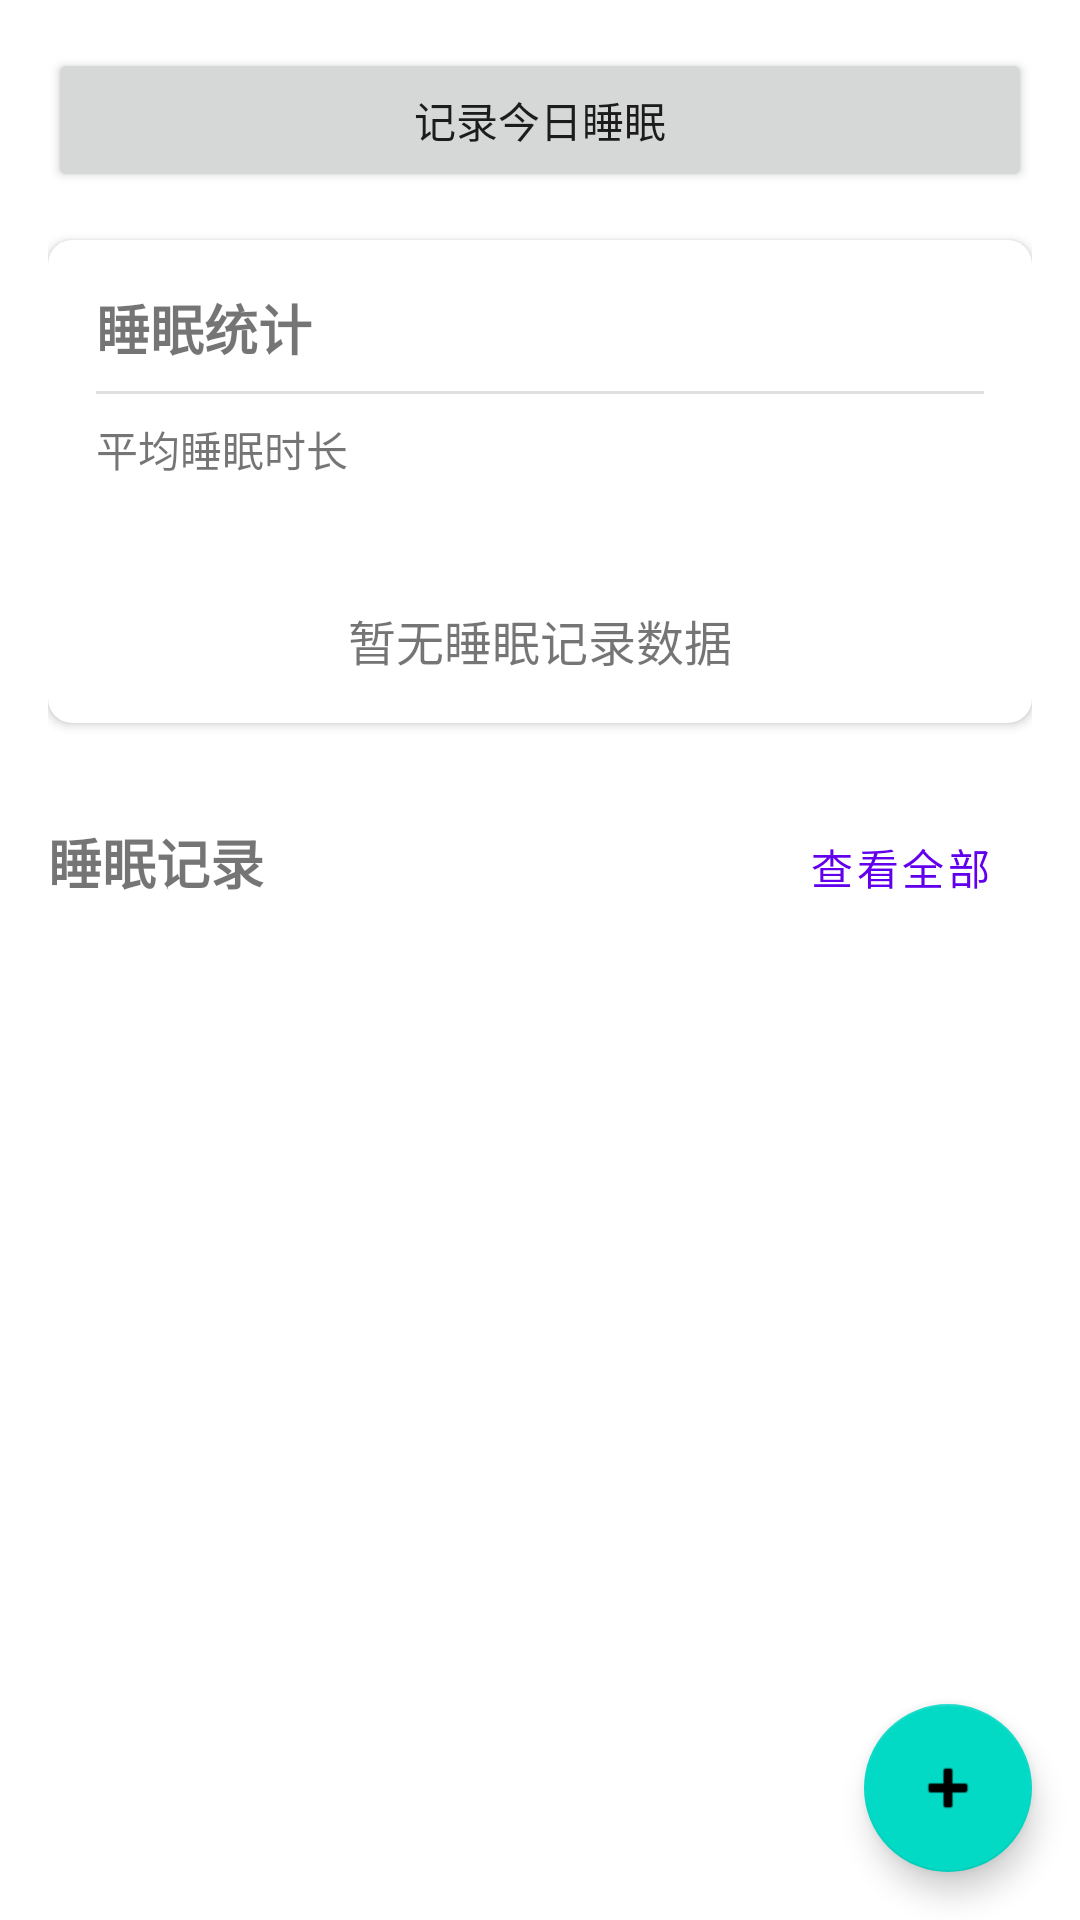

Locate icon controls on the screen. Image size 1080 x 1920, boxes as (x1, y1, x2, y2).
添加睡眠记录: (864, 1704, 1032, 1872)
